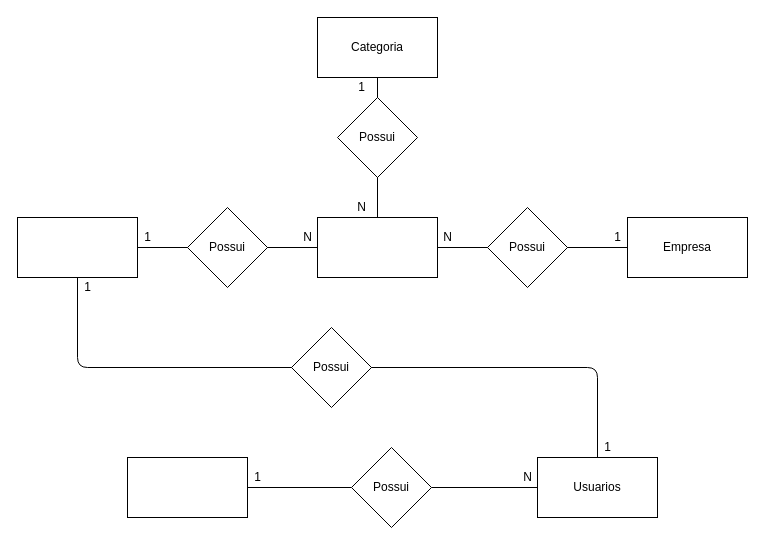
The diagram is 765 pixels wide and 545 high, and some of its shapes have lost their labels. The centre of each missing label's shape, as x and y in pixels:
"Autor" goes at pixel 77 247.
"Livros" goes at pixel 377 247.
"TiposUsuario" goes at pixel 187 487.
